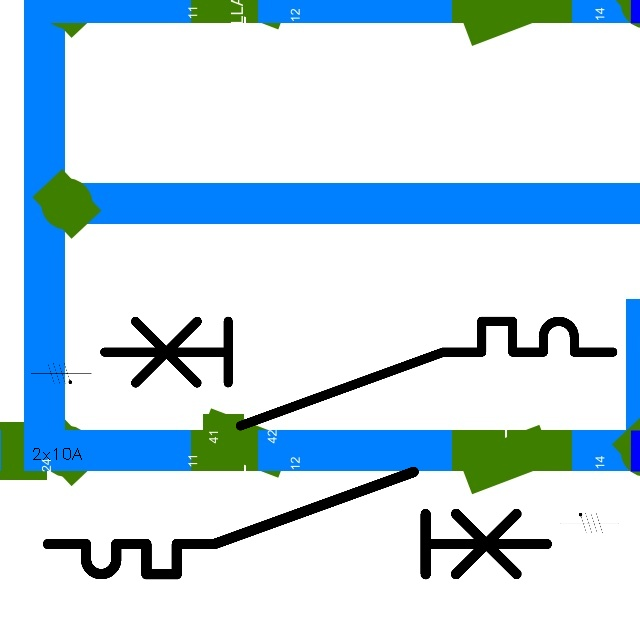interruptor_termomagnetico: (91, 308, 626, 439), (35, 459, 560, 587)
